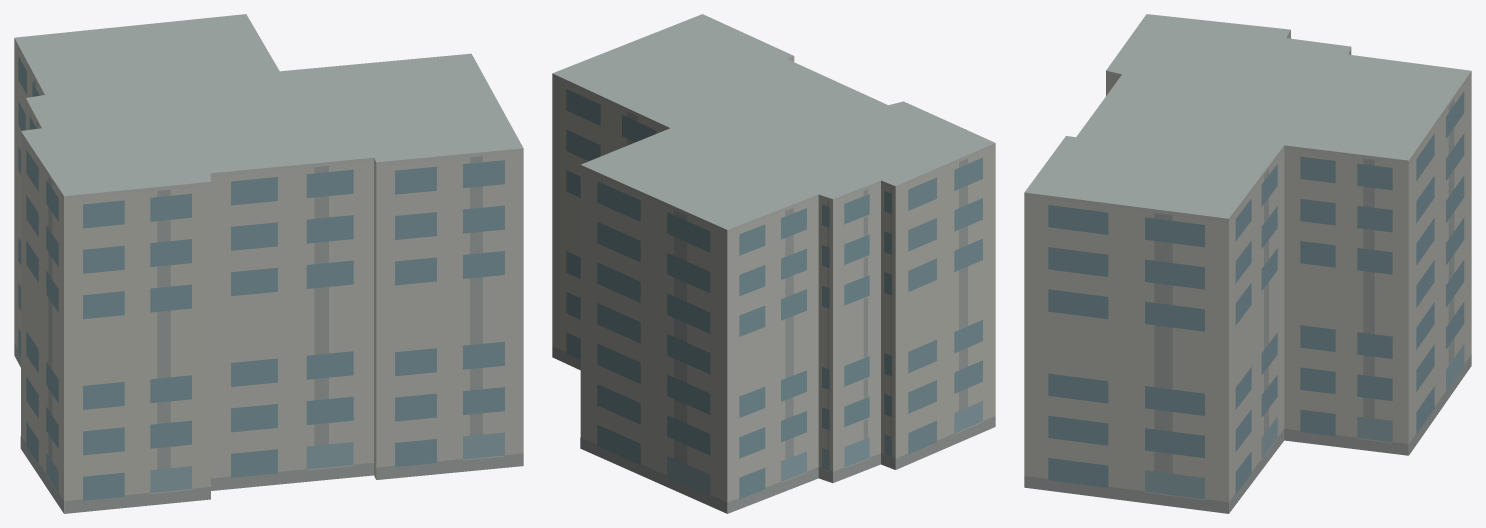
File: survey-upis-32874201.glb
3 renders of one model, left to right at view 1: azimuth 30°, elevation 25°; view 2: azimuth 150°, elevation 25°; view 3: azimuth 270°, elevation 25°, orthographic. The views are drawn at different scales.
Visible parts, largest first — view 1: survey-upis-32874201.tmp; view 2: survey-upis-32874201.tmp; view 3: survey-upis-32874201.tmp.
Part boxes in pixels (box(x1,y1,x2,y2)): survey-upis-32874201.tmp: box(14, 14, 523, 513); survey-upis-32874201.tmp: box(552, 14, 995, 513); survey-upis-32874201.tmp: box(1024, 14, 1471, 513).
Size of the model in its own units: 29.92 by 20.1 by 27.61.
